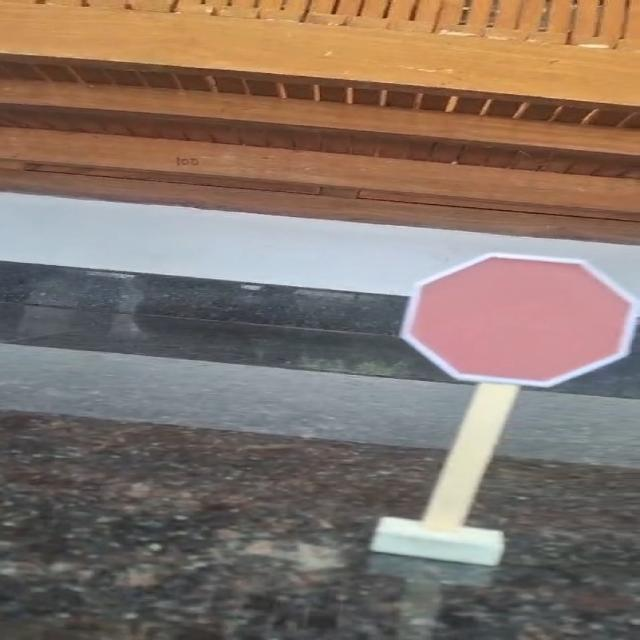Stop: (387, 242, 640, 392)
